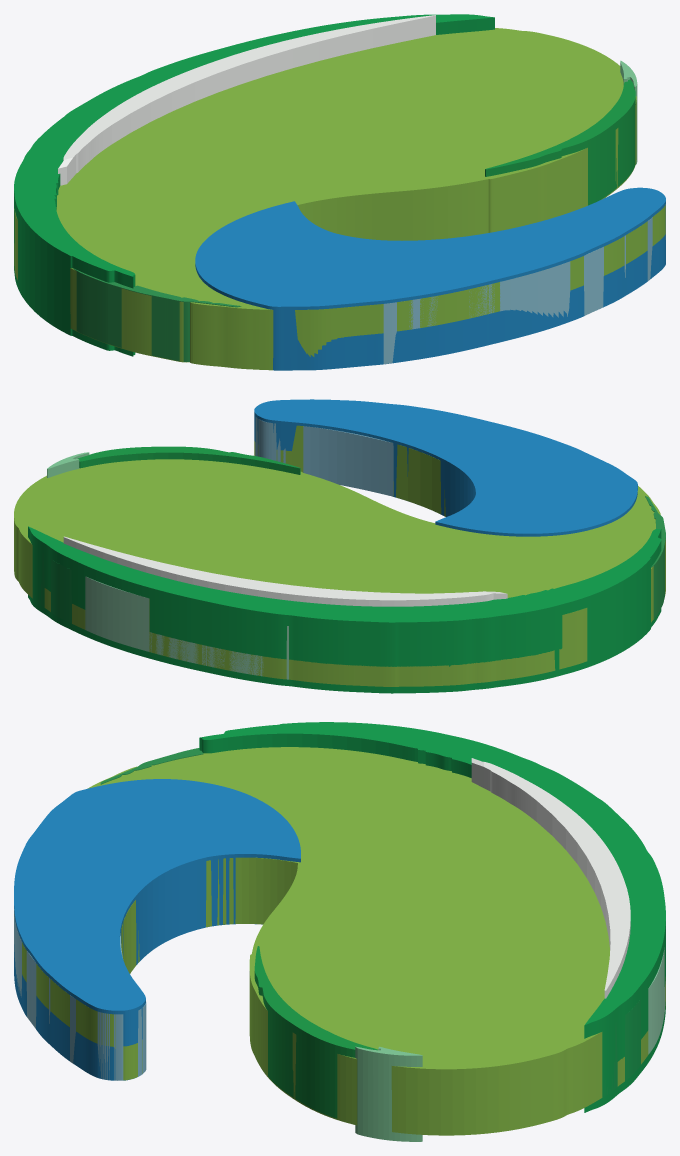
Rendered from ethio_telecom3.fbx.
3 views of the same model, one above another, from view 1: azimuth 30°, elevation 25°; view 2: azimuth 150°, elevation 25°; view 3: azimuth 270°, elevation 25° (orthographic). The views are drawn at different scales.
Visible parts, largest first — view 1: Curve, Curve.001; view 2: Curve, Curve.001; view 3: Curve, Curve.001.
Part boxes in pixels (x1,y1,x2,y2): Curve: (14,14,665,370); Curve.001: (195,187,665,370); Curve: (14,417,665,693); Curve.001: (254,399,637,536); Curve: (14,722,665,1141); Curve.001: (14,779,300,1080).
Size of the model in its own units: 14.47 by 2.09 by 11.94.
